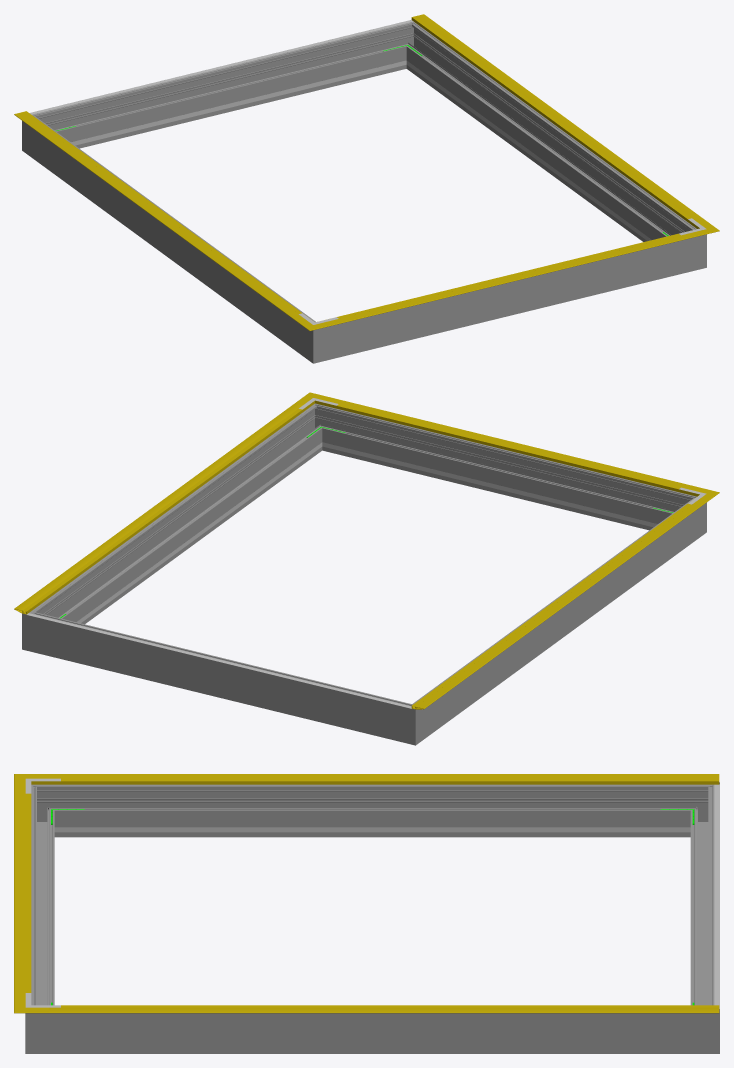
The picture shows the model from 3 angles, top to bottom: view 1: azimuth 30°, elevation 25°; view 2: azimuth 150°, elevation 25°; view 3: azimuth 270°, elevation 25°; orthographic projection. The views are drawn at different scales.
Parts seen in each view (by area): view 1: 3DGeom-276, 3DGeom-297, 3DGeom-298, 3DGeom-268, 3DGeom-145, 3DGeom-147, 3DGeom-141, 3DGeom-244, 3DGeom-270, 3DGeom-154, 3DGeom-152, 3DGeom-220 (+5 smaller); view 2: 3DGeom-298, 3DGeom-276, 3DGeom-297, 3DGeom-268, 3DGeom-145, 3DGeom-141, 3DGeom-147, 3DGeom-278, 3DGeom-239, 3DGeom-152, 3DGeom-154, 3DGeom-220 (+5 smaller); view 3: 3DGeom-268, 3DGeom-297, 3DGeom-147, 3DGeom-145, 3DGeom-276, 3DGeom-298, 3DGeom-232, 3DGeom-154, 3DGeom-141, 3DGeom-152, 3DGeom-284, 3DGeom-290 (+4 smaller).
Boxes of the visible parts, <box> form: 3DGeom-276: <box>50,27,402,148</box>; 3DGeom-297: <box>409,31,687,241</box>; 3DGeom-298: <box>339,240,681,357</box>; 3DGeom-268: <box>36,123,306,352</box>; 3DGeom-145: <box>411,14,704,225</box>; 3DGeom-147: <box>14,112,302,319</box>; 3DGeom-141: <box>331,233,693,324</box>; 3DGeom-244: <box>80,66,381,144</box>; 3DGeom-270: <box>298,315,338,363</box>; 3DGeom-154: <box>22,111,301,314</box>; 3DGeom-152: <box>412,16,691,218</box>; 3DGeom-220: <box>29,20,413,114</box>; 3DGeom-298: <box>326,408,678,530</box>; 3DGeom-276: <box>47,616,394,739</box>; 3DGeom-297: <box>41,412,319,624</box>; 3DGeom-268: <box>422,505,691,734</box>; 3DGeom-145: <box>14,403,307,614</box>; 3DGeom-141: <box>328,398,693,493</box>; 3DGeom-147: <box>411,501,704,709</box>; 3DGeom-278: <box>390,697,430,745</box>; 3DGeom-239: <box>347,448,648,525</box>; 3DGeom-152: <box>22,408,301,611</box>; 3DGeom-154: <box>412,503,691,706</box>; 3DGeom-220: <box>26,613,411,708</box>; 3DGeom-268: <box>60,784,684,837</box>; 3DGeom-297: <box>60,1013,684,1053</box>; 3DGeom-147: <box>49,774,719,784</box>; 3DGeom-145: <box>49,1007,719,1013</box>; 3DGeom-276: <box>690,797,714,1005</box>; 3DGeom-298: <box>31,797,54,1005</box>; 3DGeom-232: <box>89,827,656,832</box>; 3DGeom-154: <box>61,778,719,781</box>; 3DGeom-141: <box>14,789,25,997</box>; 3DGeom-152: <box>61,1005,719,1007</box>; 3DGeom-284: <box>684,996,719,1053</box>; 3DGeom-290: <box>25,996,60,1053</box>.
Bounding box in the file's own units: 2.44 × 0.2195 × 3.05.
